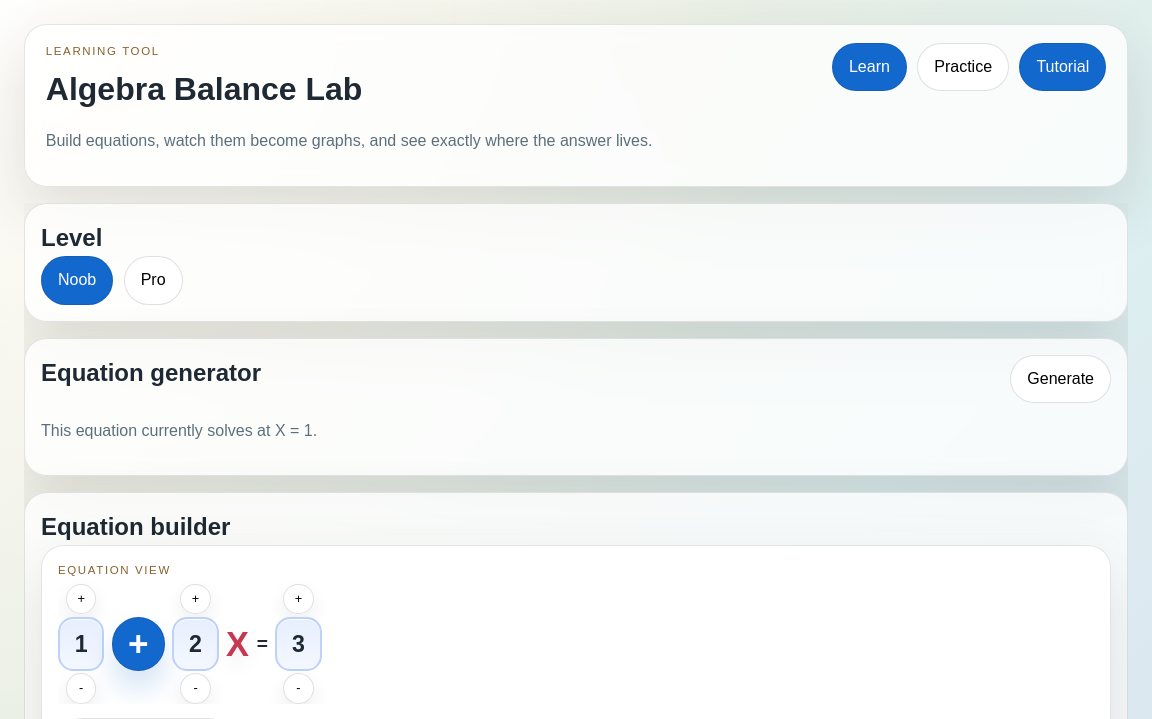
Algebra Balance Lab › switches to pro mode and shows the reduced view
The image size is (1152, 719).
Click the button "Pro": {"x": 153, "y": 280} [124, 256, 182, 305]
(page scrolled)
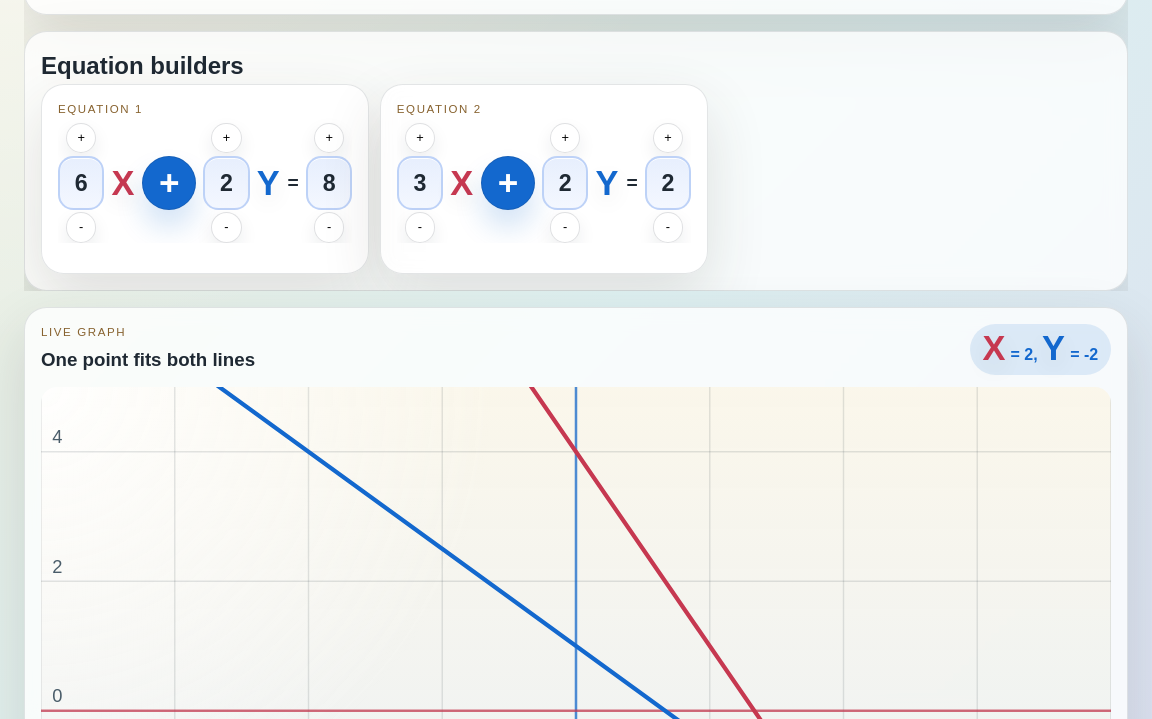
Result: the heading "One point fits both lines" is shown at [41, 346, 255, 374]
